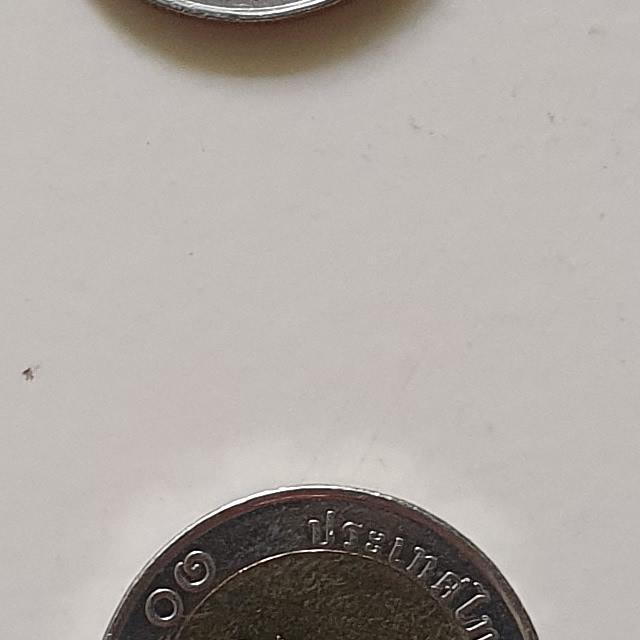10 Bath: (101, 480, 547, 640)
